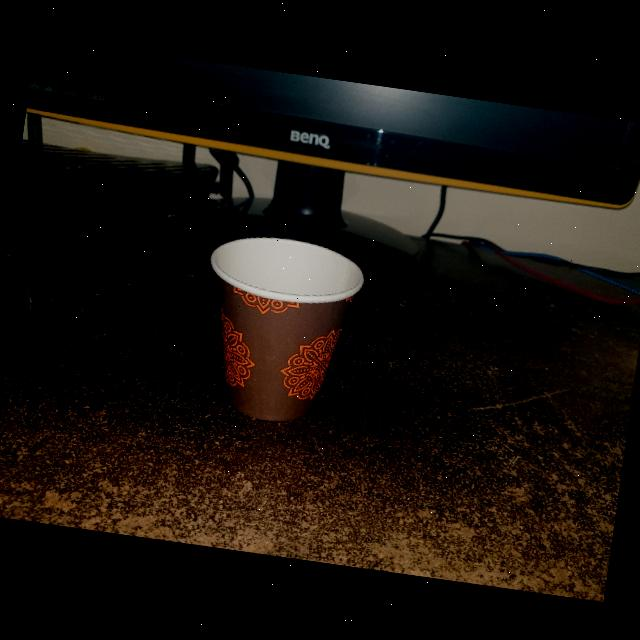trash: (182, 223, 376, 438)
